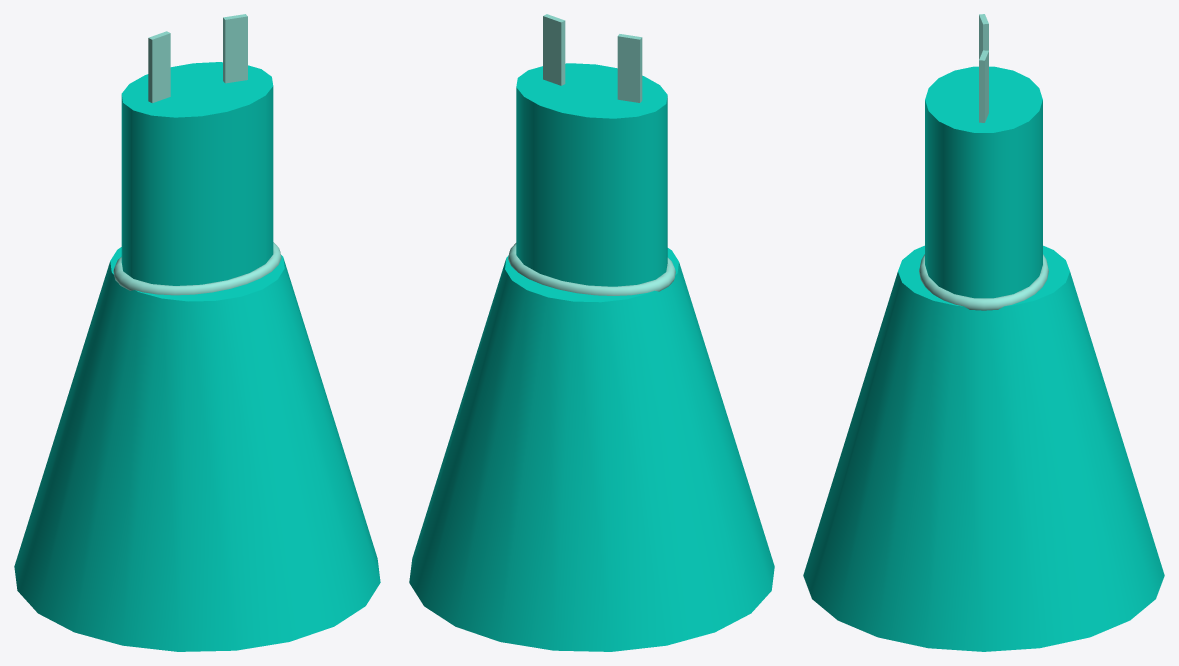
The model's file is VM-DAM-8810.glb.
The picture shows the model from 3 angles, left to right: view 1: azimuth 30°, elevation 25°; view 2: azimuth 150°, elevation 25°; view 3: azimuth 270°, elevation 25°; orthographic projection.
Parts seen in each view (by area): view 1: Vestido Satinado Fuchsia Night; view 2: Vestido Satinado Fuchsia Night; view 3: Vestido Satinado Fuchsia Night.
Boxes of the visible parts, x1,y1,x2,y2 form: Vestido Satinado Fuchsia Night: [14, 14, 380, 651]; Vestido Satinado Fuchsia Night: [409, 14, 774, 651]; Vestido Satinado Fuchsia Night: [803, 14, 1164, 651].
Bounding box in the file's own units: 0.8064 × 1.32 × 0.8064.
